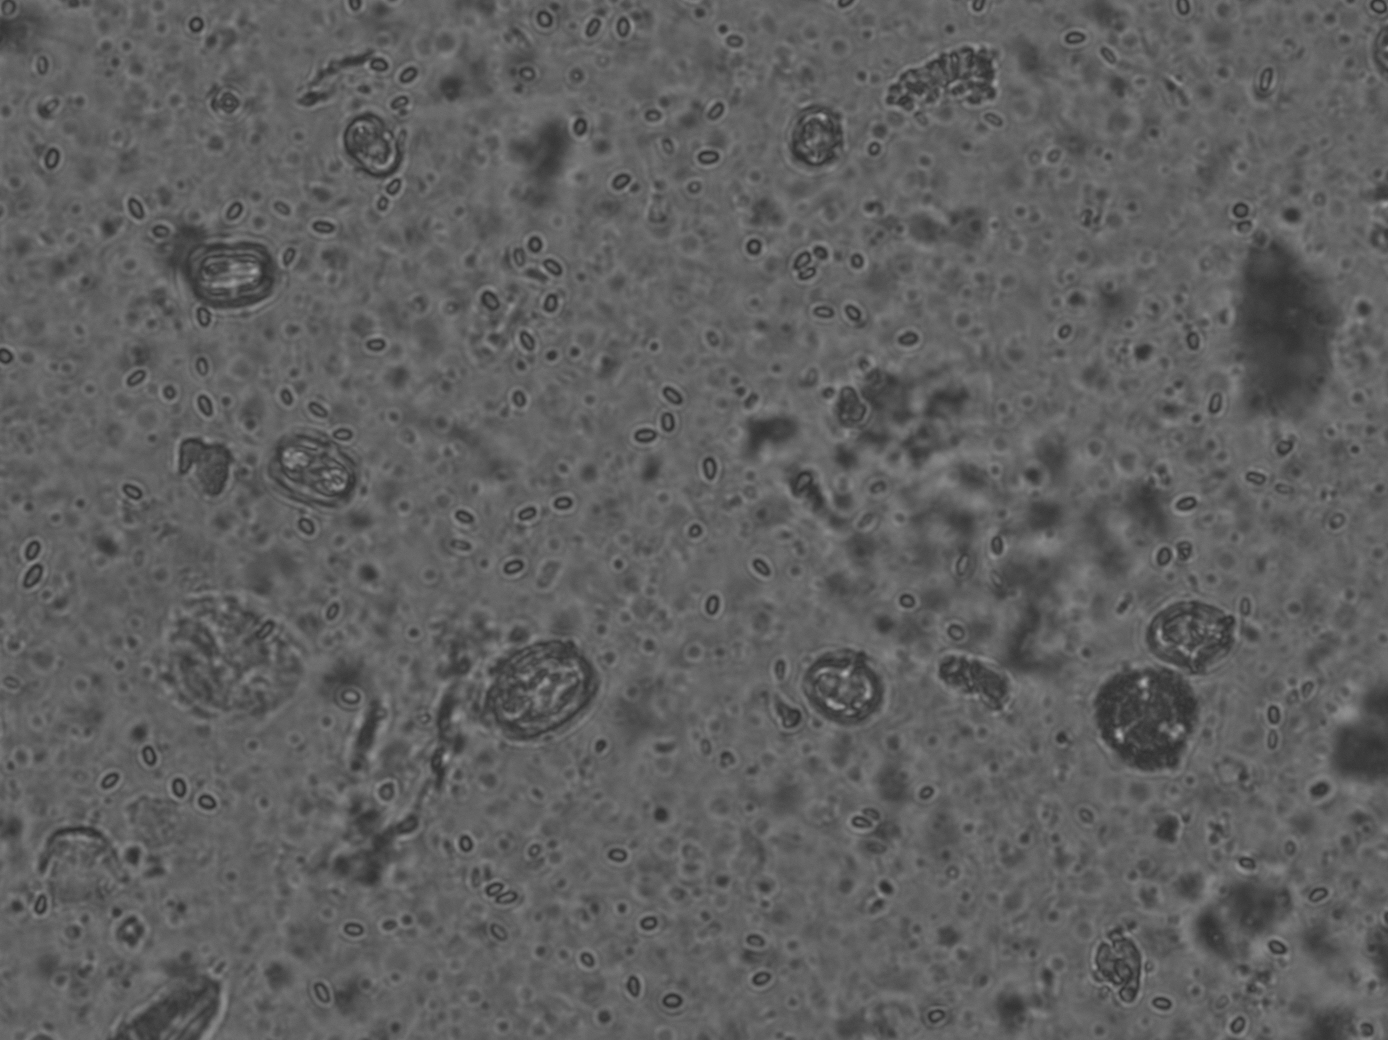spore: (537, 14, 550, 27), (642, 918, 655, 930), (459, 839, 472, 851), (747, 240, 760, 252), (920, 787, 933, 799), (1373, 0, 1387, 11), (199, 796, 211, 808), (667, 996, 679, 1008), (389, 179, 401, 191), (1369, 3, 1383, 14), (1232, 1020, 1245, 1031), (371, 59, 384, 70), (702, 153, 714, 164), (337, 430, 349, 441), (1152, 996, 1164, 1007), (487, 884, 499, 895), (346, 925, 358, 936), (130, 371, 142, 382), (347, 692, 358, 704), (868, 144, 880, 155), (520, 509, 533, 519), (1066, 33, 1077, 44), (589, 24, 600, 35), (1233, 205, 1244, 216), (103, 778, 115, 788), (1178, 500, 1190, 510), (555, 500, 567, 510), (50, 154, 60, 166), (1239, 205, 1249, 217), (849, 309, 861, 319), (400, 69, 412, 79), (189, 24, 202, 33), (1184, 501, 1197, 510), (1310, 891, 1320, 902), (512, 562, 522, 572), (643, 432, 654, 441), (617, 25, 628, 35), (233, 206, 242, 217), (503, 563, 513, 574), (798, 257, 809, 267), (1318, 891, 1328, 902), (616, 849, 626, 860), (709, 154, 720, 164), (35, 902, 46, 912), (45, 155, 56, 165), (459, 511, 470, 521), (1076, 33, 1086, 44), (546, 295, 557, 305), (708, 605, 720, 614), (25, 571, 37, 580), (329, 606, 339, 616), (562, 500, 572, 510), (1162, 997, 1172, 1007), (692, 527, 702, 536), (495, 883, 503, 894), (503, 894, 514, 902), (616, 181, 627, 190), (927, 1013, 938, 1021), (200, 319, 211, 328), (285, 251, 296, 260), (703, 469, 714, 477), (155, 225, 166, 234), (1213, 398, 1222, 409), (902, 336, 913, 345), (545, 303, 557, 310), (173, 789, 185, 796), (1211, 406, 1223, 414), (1178, 8, 1190, 15), (806, 269, 816, 277), (1162, 555, 1172, 564), (227, 208, 237, 216), (408, 69, 417, 79), (146, 755, 156, 764), (35, 908, 45, 917), (141, 754, 150, 764), (711, 111, 722, 119), (665, 425, 677, 432), (799, 270, 808, 279), (634, 433, 643, 441), (1269, 737, 1278, 746), (381, 199, 389, 209), (806, 259, 816, 267), (661, 425, 671, 433), (373, 340, 383, 347), (746, 935, 756, 943), (485, 893, 496, 899), (0, 357, 11, 364), (25, 554, 36, 560), (704, 607, 713, 615), (1379, 7, 1388, 14), (400, 76, 408, 84), (25, 581, 35, 588), (859, 817, 867, 825), (496, 895, 505, 901), (1208, 406, 1217, 413)
